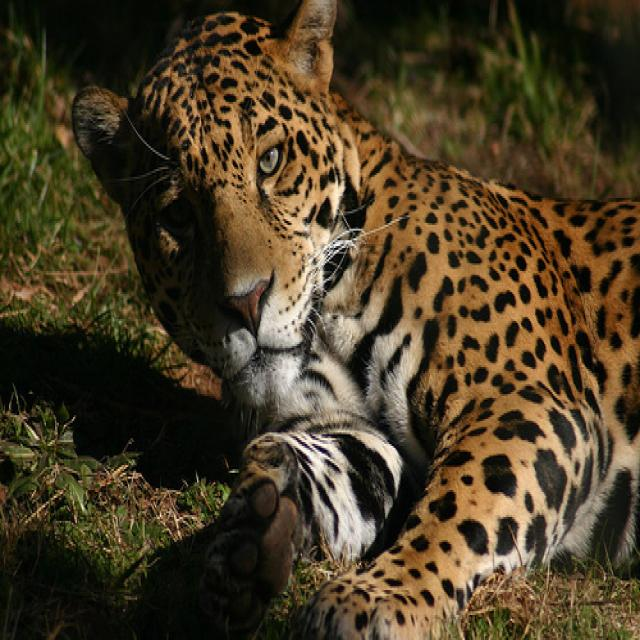Leopard: (70, 2, 638, 636)
